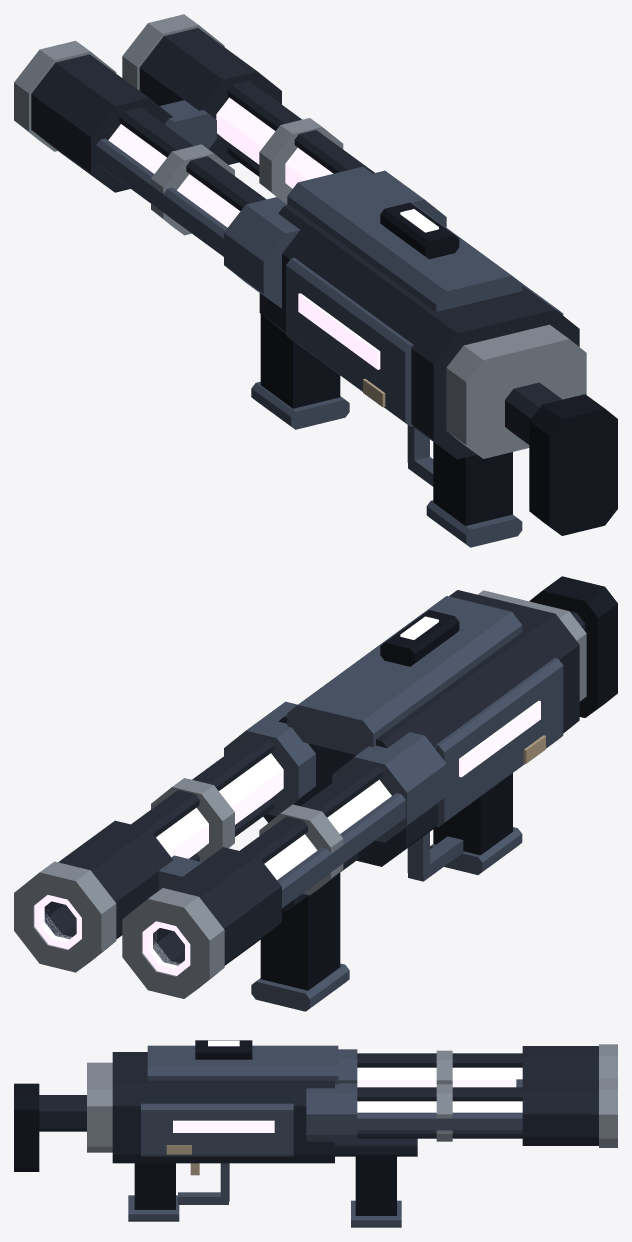
The model's file is double_barrel_plasma.glb.
The picture shows the model from 3 angles, top to bottom: view 1: azimuth 30°, elevation 25°; view 2: azimuth 150°, elevation 25°; view 3: azimuth 270°, elevation 25°; orthographic projection. The views are drawn at different scales.
Parts seen in each view (by area): view 1: PlasmaMesh; view 2: PlasmaMesh; view 3: PlasmaMesh.
Boxes of the visible parts, x1,y1,x2,y2 form: PlasmaMesh: (14,14,617,547); PlasmaMesh: (14,576,617,1011); PlasmaMesh: (14,1040,617,1227).
Bounding box in the file's own units: 0.2276 × 0.3075 × 0.95.
2 materials, 2 textured.
